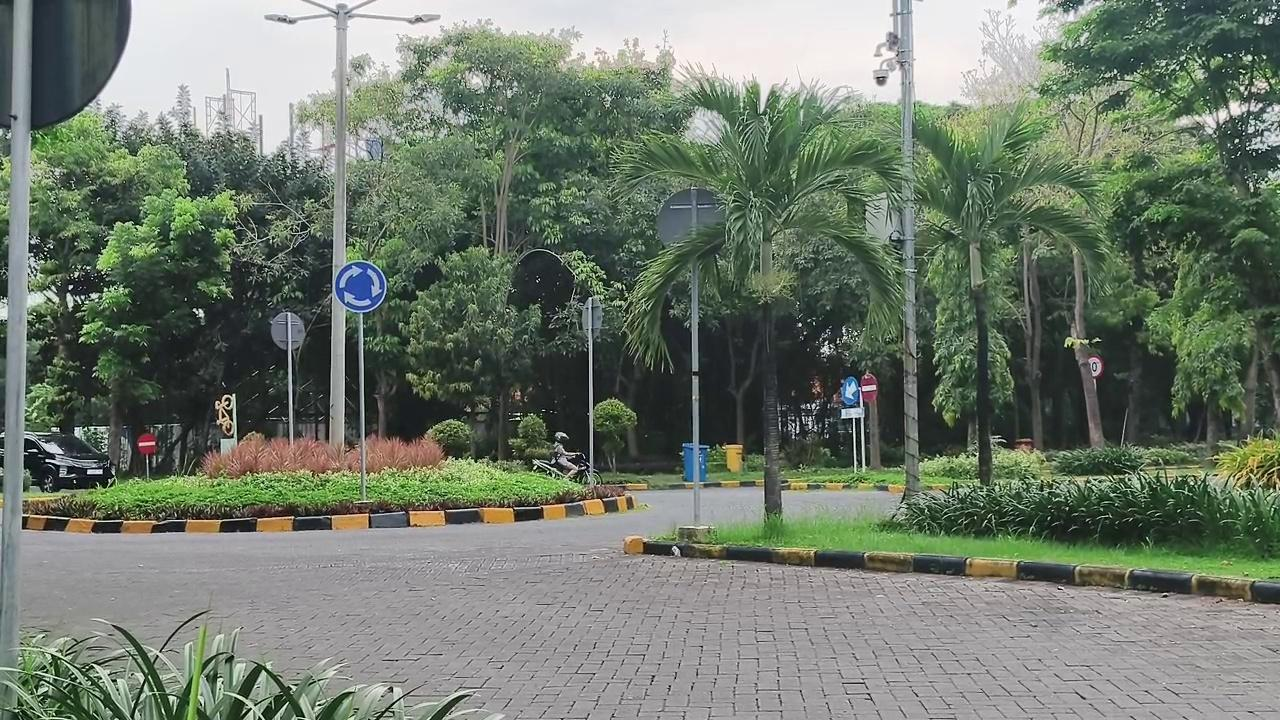Helmet: (552, 432, 582, 478)
